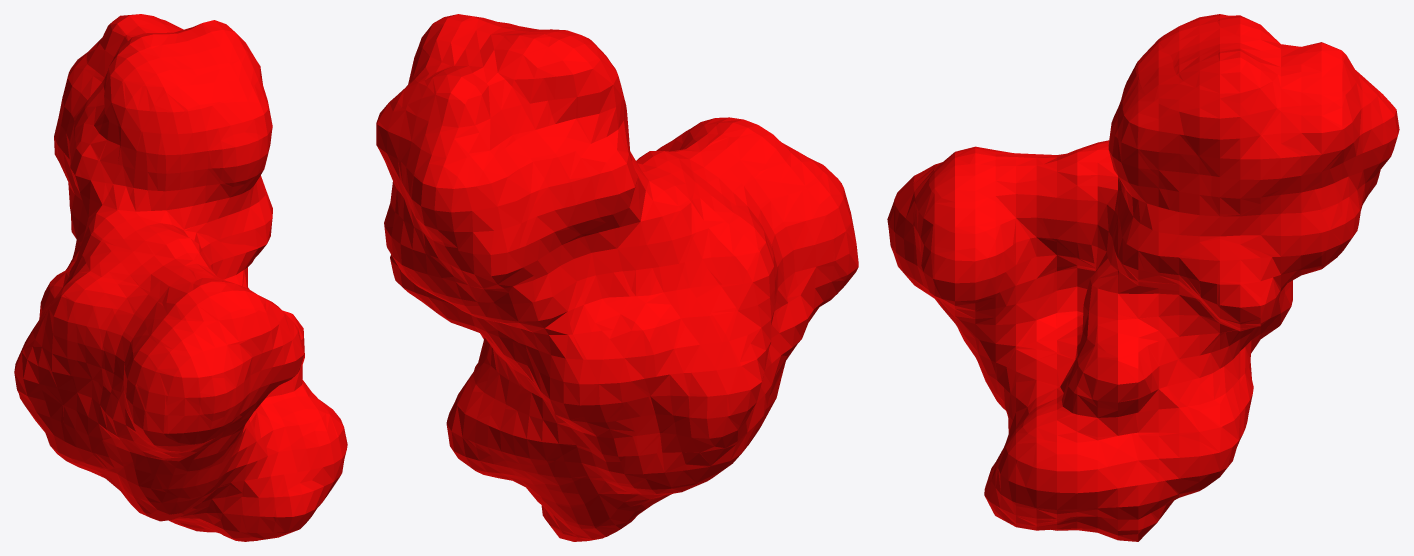
The model's file is cysH_coarse.dae.
3 renders of one model, left to right at view 1: azimuth 30°, elevation 25°; view 2: azimuth 150°, elevation 25°; view 3: azimuth 270°, elevation 25°, orthographic. The views are drawn at different scales.
Visible parts, largest first — view 1: cysH; view 2: cysH; view 3: cysH.
Part boxes in pixels (left/top/right/bottom): cysH: left=14, top=14, right=347, bottom=541; cysH: left=376, top=14, right=858, bottom=541; cysH: left=887, top=14, right=1399, bottom=541.
Bounding box in the file's own units: 46.83 × 74.78 × 67.82.
